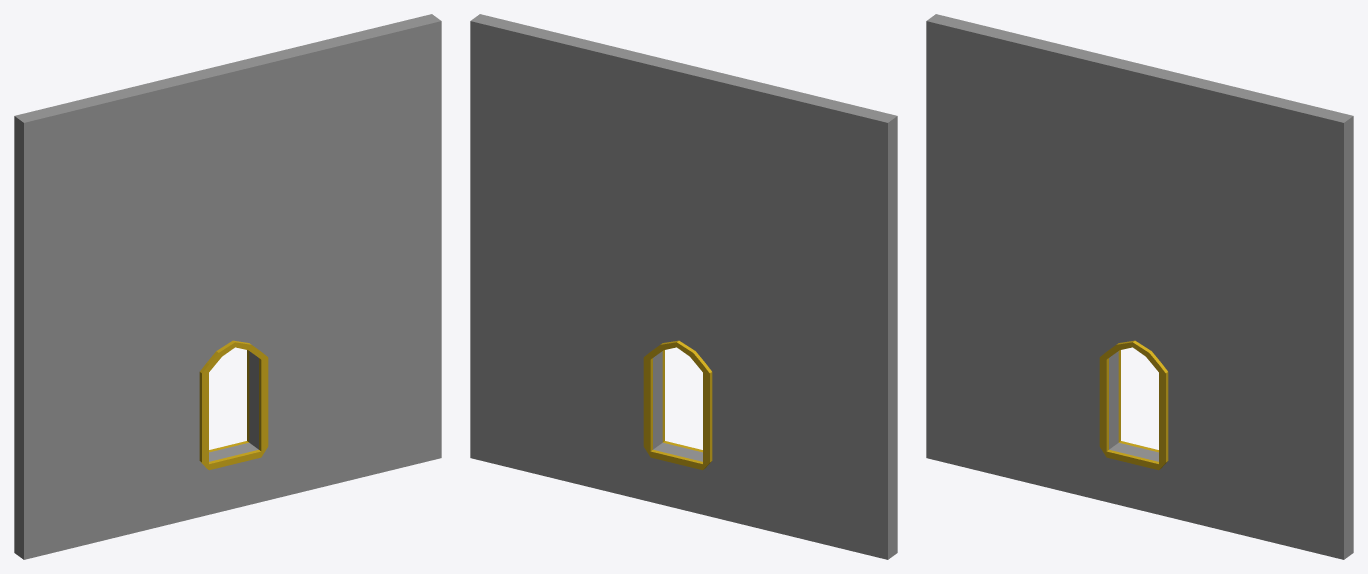
File: trainDoorWall.fbx
3 renders of one model, left to right at view 1: azimuth 30°, elevation 25°; view 2: azimuth 150°, elevation 25°; view 3: azimuth 330°, elevation 25°, orthographic.
Visible parts, largest first — view 1: Cube.001; view 2: Cube.001; view 3: Cube.001.
Boxes of the visible parts, box(x1,y1,x2,y2) form: Cube.001: box(14, 14, 441, 559); Cube.001: box(470, 14, 897, 559); Cube.001: box(926, 14, 1353, 559).
Bounding box in the file's own units: 1000 × 1000 × 60.
